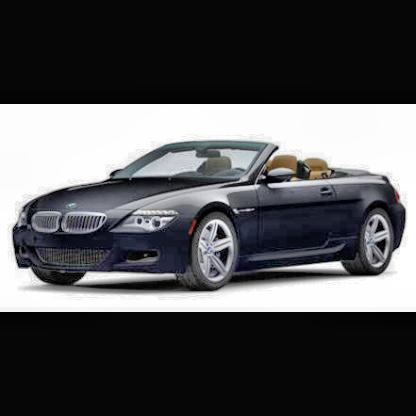BMW M6 Convertible 2010: (13, 139, 409, 292)
